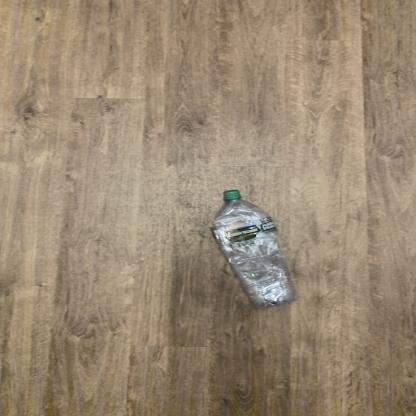trash: (210, 189, 302, 309)
